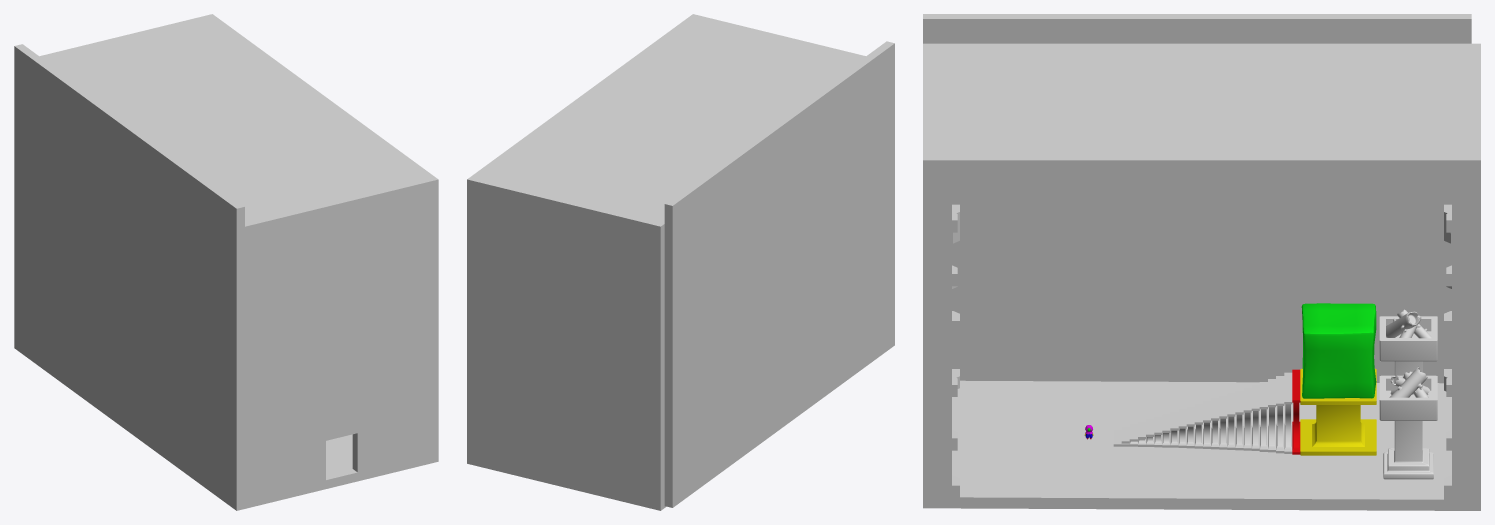
File: LevelEnd-Old.fbx
3 views of the same model, side by side, from view 1: azimuth 30°, elevation 25°; view 2: azimuth 150°, elevation 25°; view 3: azimuth 270°, elevation 25° (orthographic). The views are drawn at different scales.
Visible parts, largest first — view 1: Wall, Wall1_Lopoly.041, Wall1_Lopoly.009, Wall1_Lopoly.025, Wall1_Lopoly.001, Wall1_Lopoly.017, Wall1_Lopoly.033, Wall1_Lopoly.045, Wall1_Lopoly.048, Wall1_Lopoly.044, Wall1_Lopoly.043, Wall1_Lopoly.042 (+37 smaller); view 2: Wall, Wall1_Lopoly.048, Wall1_Lopoly.016, Wall1_Lopoly.040, Wall1_Lopoly.024, Wall1_Lopoly.008, Wall1_Lopoly.032, Wall1_Lopoly.042, Wall1_Lopoly.047, Wall1_Lopoly.043, Wall1_Lopoly.044, Wall1_Lopoly.041 (+37 smaller); view 3: Wall, Slime, Wall1_Lopoly.010, Wall1_Lopoly.012, Wall1_Lopoly.018, Wall1_Lopoly.020, Cube.057, Wall1_Lopoly.011, Wall1_Lopoly.013, Wall1_Lopoly.019, Wall1_Lopoly.021, Wall1_Lopoly.023 (+39 smaller).
Boxes of the visible parts, box(x1,y1,x2,y2) form: Wall: box(39, 14, 438, 508); Wall1_Lopoly.041: box(209, 186, 244, 258); Wall1_Lopoly.009: box(209, 390, 244, 460); Wall1_Lopoly.025: box(209, 289, 244, 359); Wall1_Lopoly.001: box(209, 440, 244, 510); Wall1_Lopoly.017: box(209, 340, 244, 409); Wall1_Lopoly.033: box(209, 239, 244, 309); Wall1_Lopoly.045: box(97, 105, 133, 177); Wall1_Lopoly.048: box(14, 44, 49, 116); Wall1_Lopoly.044: box(125, 125, 160, 197); Wall1_Lopoly.043: box(153, 146, 188, 217); Wall1_Lopoly.042: box(181, 166, 216, 238); Wall: box(467, 14, 865, 510); Wall1_Lopoly.048: box(664, 183, 700, 256); Wall1_Lopoly.016: box(664, 387, 700, 457); Wall1_Lopoly.040: box(664, 236, 700, 306); Wall1_Lopoly.024: box(664, 337, 700, 407); Wall1_Lopoly.008: box(664, 438, 700, 507); Wall1_Lopoly.032: box(664, 287, 700, 356); Wall1_Lopoly.042: box(831, 61, 867, 133); Wall1_Lopoly.047: box(692, 163, 728, 235); Wall1_Lopoly.043: box(804, 82, 839, 153); Wall1_Lopoly.044: box(776, 102, 811, 174); Wall1_Lopoly.041: box(859, 41, 894, 113); Wall: box(923, 43, 1480, 510); Slime: box(1301, 303, 1376, 398); Wall1_Lopoly.010: box(991, 267, 1060, 329); Wall1_Lopoly.012: box(1128, 267, 1197, 329); Wall1_Lopoly.018: box(991, 205, 1060, 267); Wall1_Lopoly.020: box(1128, 205, 1197, 267); Cube.057: box(1379, 375, 1437, 479); Wall1_Lopoly.011: box(1060, 267, 1128, 329); Wall1_Lopoly.013: box(1197, 267, 1265, 329); Wall1_Lopoly.019: box(1060, 205, 1128, 267); Wall1_Lopoly.021: box(1197, 205, 1265, 267); Wall1_Lopoly.023: box(1334, 205, 1402, 267).
Bounding box in the file's own units: 9933 × 14304 × 19262.
